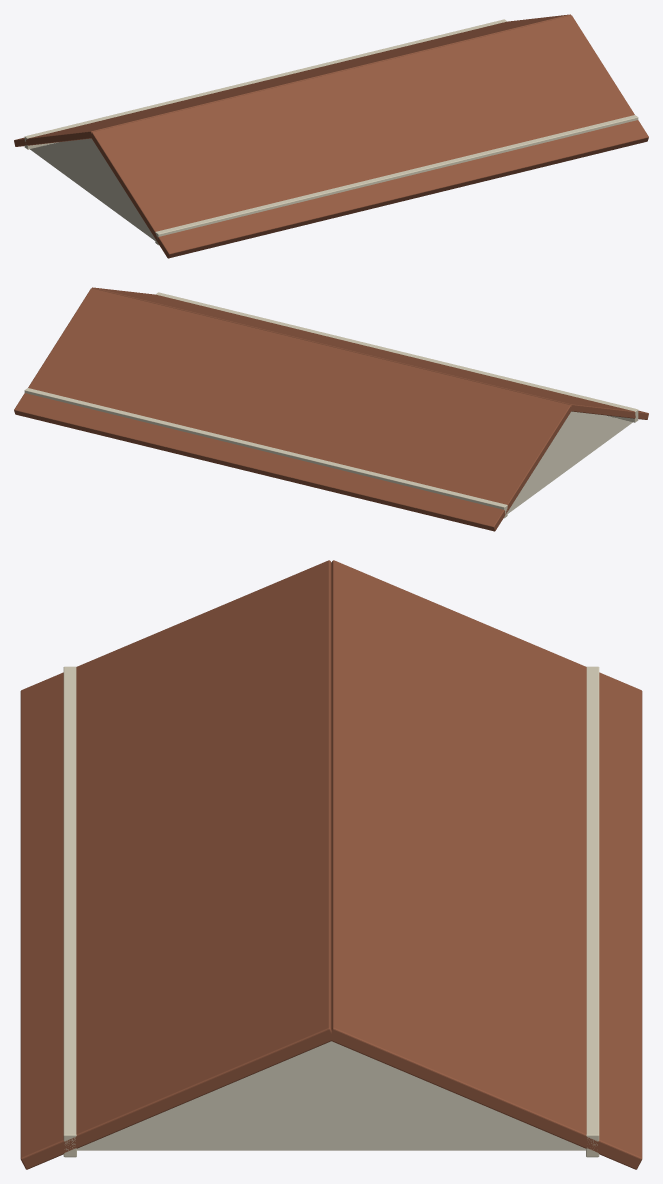
The model's file is SM_Roof.glb.
The picture shows the model from 3 angles, top to bottom: view 1: azimuth 30°, elevation 25°; view 2: azimuth 150°, elevation 25°; view 3: azimuth 270°, elevation 25°; orthographic projection. The views are drawn at different scales.
Parts seen in each view (by area): view 1: SM_Roof; view 2: SM_Roof; view 3: SM_Roof.
Boxes of the visible parts, x1,y1,x2,y2 form: SM_Roof: (14, 14, 648, 258); SM_Roof: (14, 287, 648, 531); SM_Roof: (20, 560, 642, 1169).
Bounding box in the file's own units: 10.7 × 1.51 × 6.
